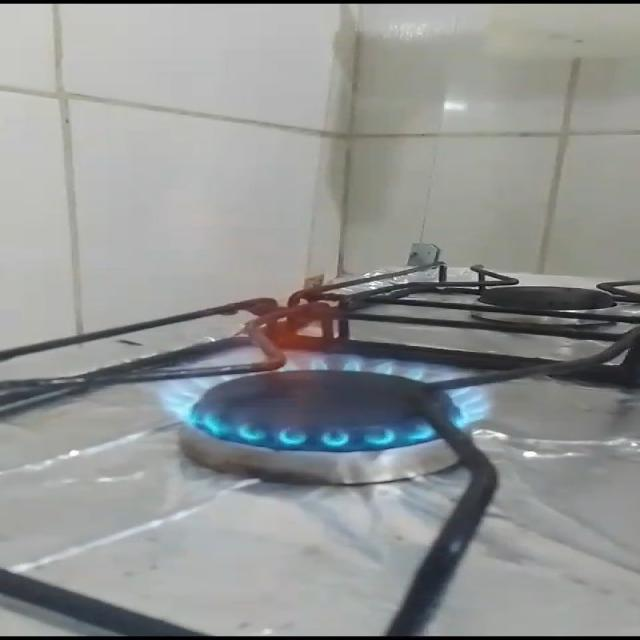fogo-ypXI: (140, 261, 503, 459)
